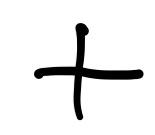plus: (34, 23, 143, 120)
